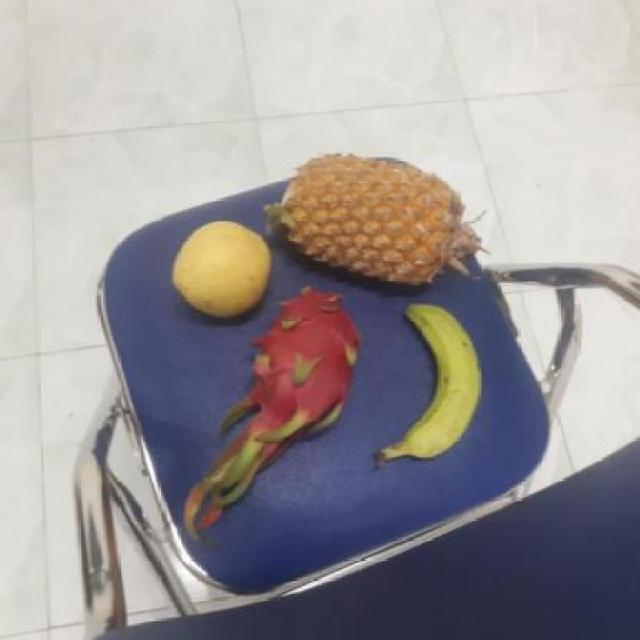banana: (384, 298, 484, 460)
dragon fruit: (239, 288, 359, 430)
pear: (167, 219, 275, 319)
pineapple: (266, 149, 476, 293)
